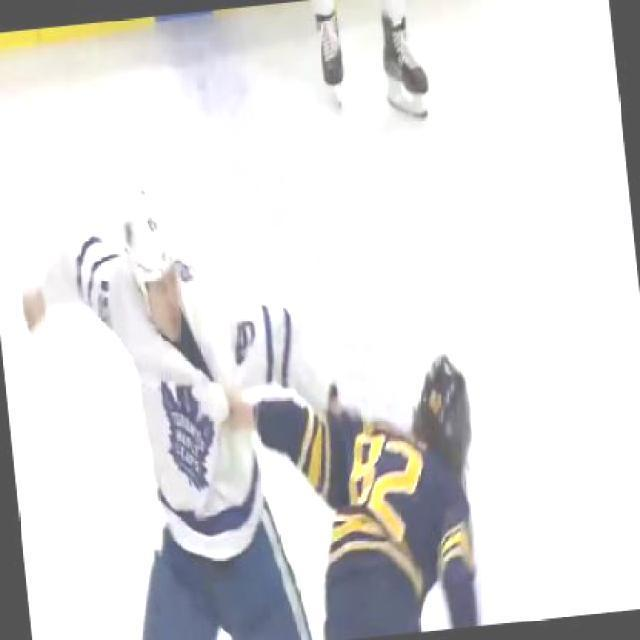fight: (8, 164, 372, 638), (175, 342, 500, 638)
